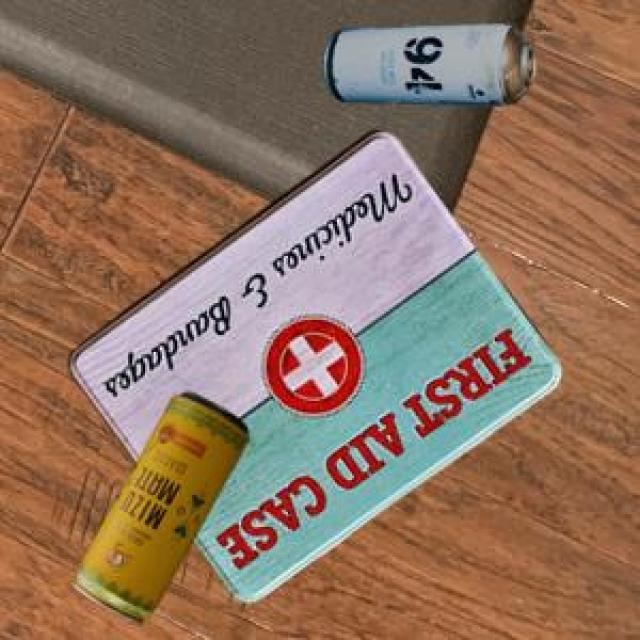logam: (67, 127, 558, 598), (69, 389, 246, 620), (319, 20, 532, 103)
